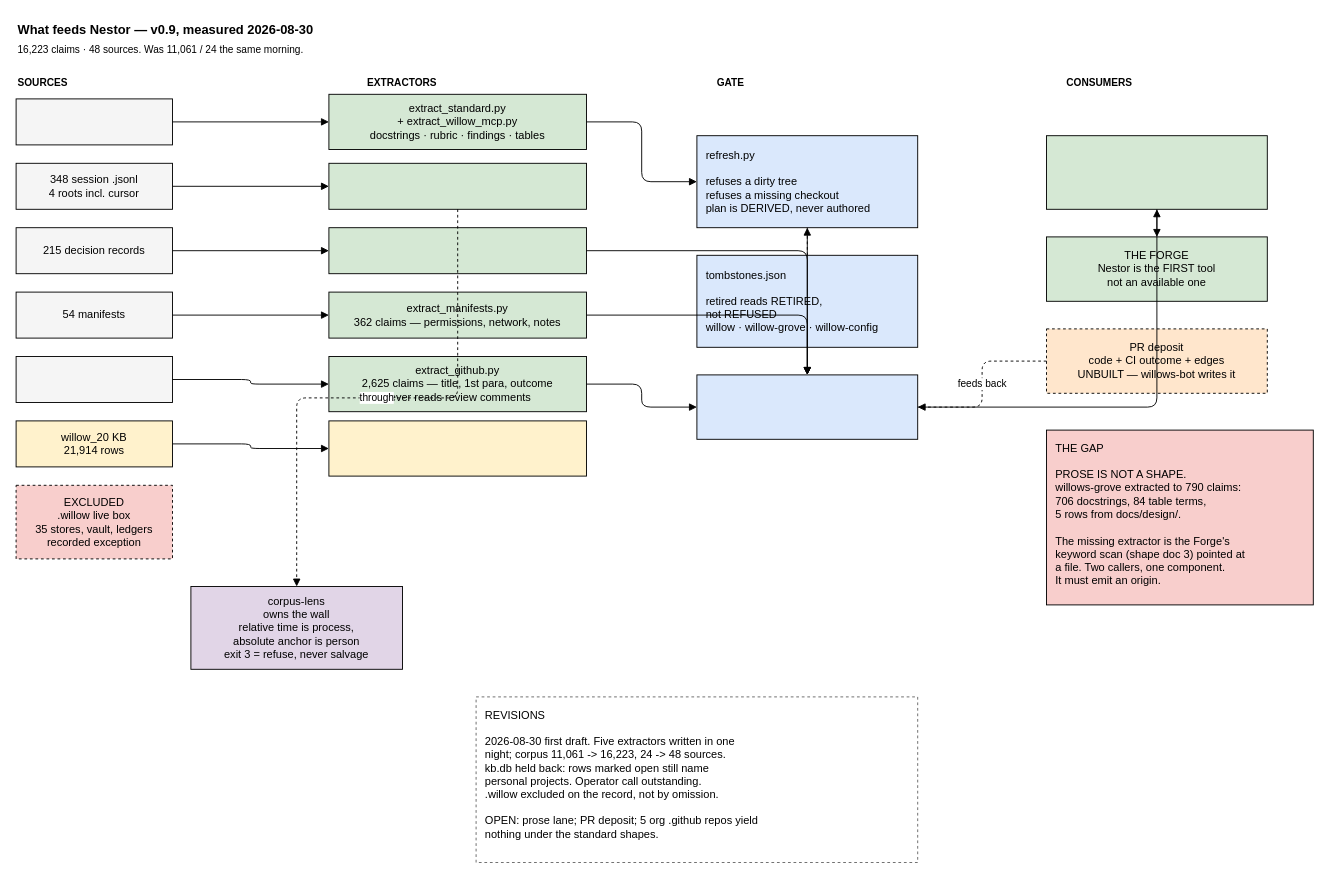
This 1329x879 diagram has some shape labels left out. Here are the shapes that lost their labels. From the top down, the box of each, then its label:
(15, 98, 172, 145): 19 repos source trees
(328, 162, 586, 209): extract_sessions.py 91 claims
(1046, 135, 1267, 209): nestor_corpus_search nestor_corpus_map only registered with --corpus-dir
(328, 227, 586, 274): extract_decisions.py 811 claims — question / commitment / why
(15, 356, 172, 402): 1,338 PRs + issues 7 orgs
(696, 374, 918, 439): corpus.sync data/corpus/*.db -> nestor.db every row lands DRAFT
(328, 420, 586, 476): extract_kb.py 3,054 open rows — HELD, not synced 10,975 sensitive never read
